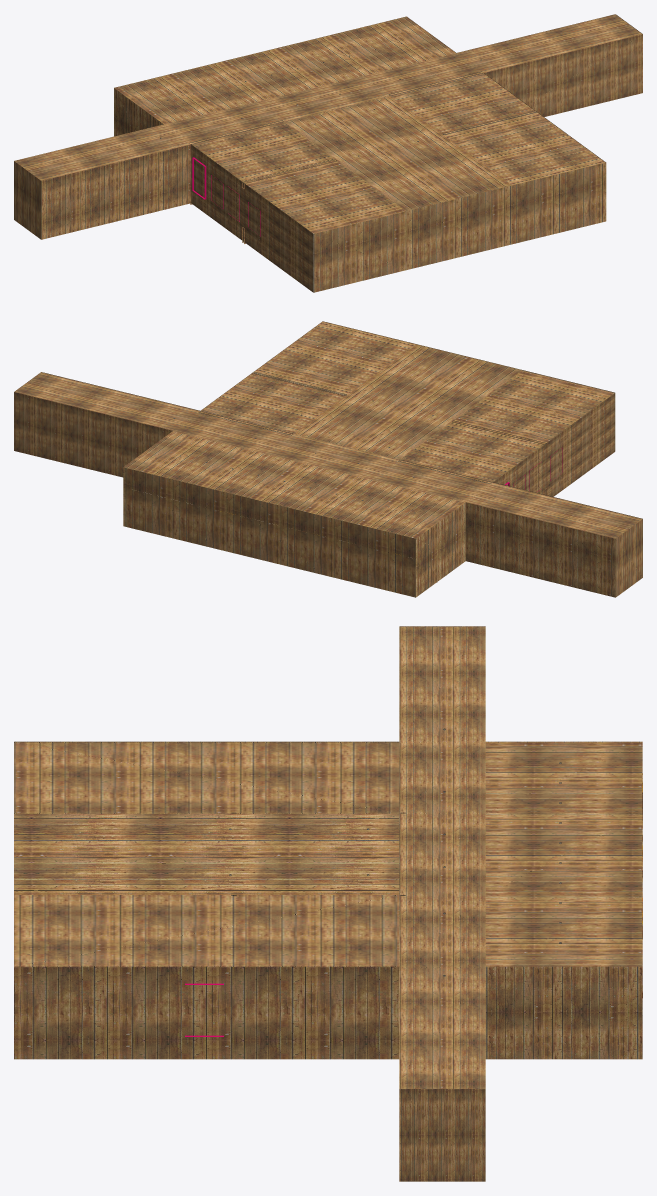
The model's file is bar01.fbx.
3 renders of one model, top to bottom at view 1: azimuth 30°, elevation 25°; view 2: azimuth 150°, elevation 25°; view 3: azimuth 270°, elevation 25°, orthographic. The views are drawn at different scales.
Visible parts, largest first — view 1: pasted__polySurface239, polySurface238, polySurface217, polySurface218; view 2: pasted__polySurface239, polySurface238, polySurface217, polySurface218; view 3: pasted__polySurface239, polySurface238.
Boxes of the visible parts, box(x1,y1,x2,y2) form: pasted__polySurface239: box(14, 14, 641, 233); polySurface238: box(14, 14, 642, 292); polySurface217: box(242, 111, 536, 243); polySurface218: box(189, 71, 483, 204); pasted__polySurface239: box(15, 322, 641, 538); polySurface238: box(14, 321, 642, 597); polySurface217: box(252, 372, 546, 495); polySurface218: box(198, 411, 493, 483); pasted__polySurface239: box(14, 627, 642, 1088); polySurface238: box(14, 626, 642, 1181).
Size of the model in its own units: 4544 by 438 by 2611.
